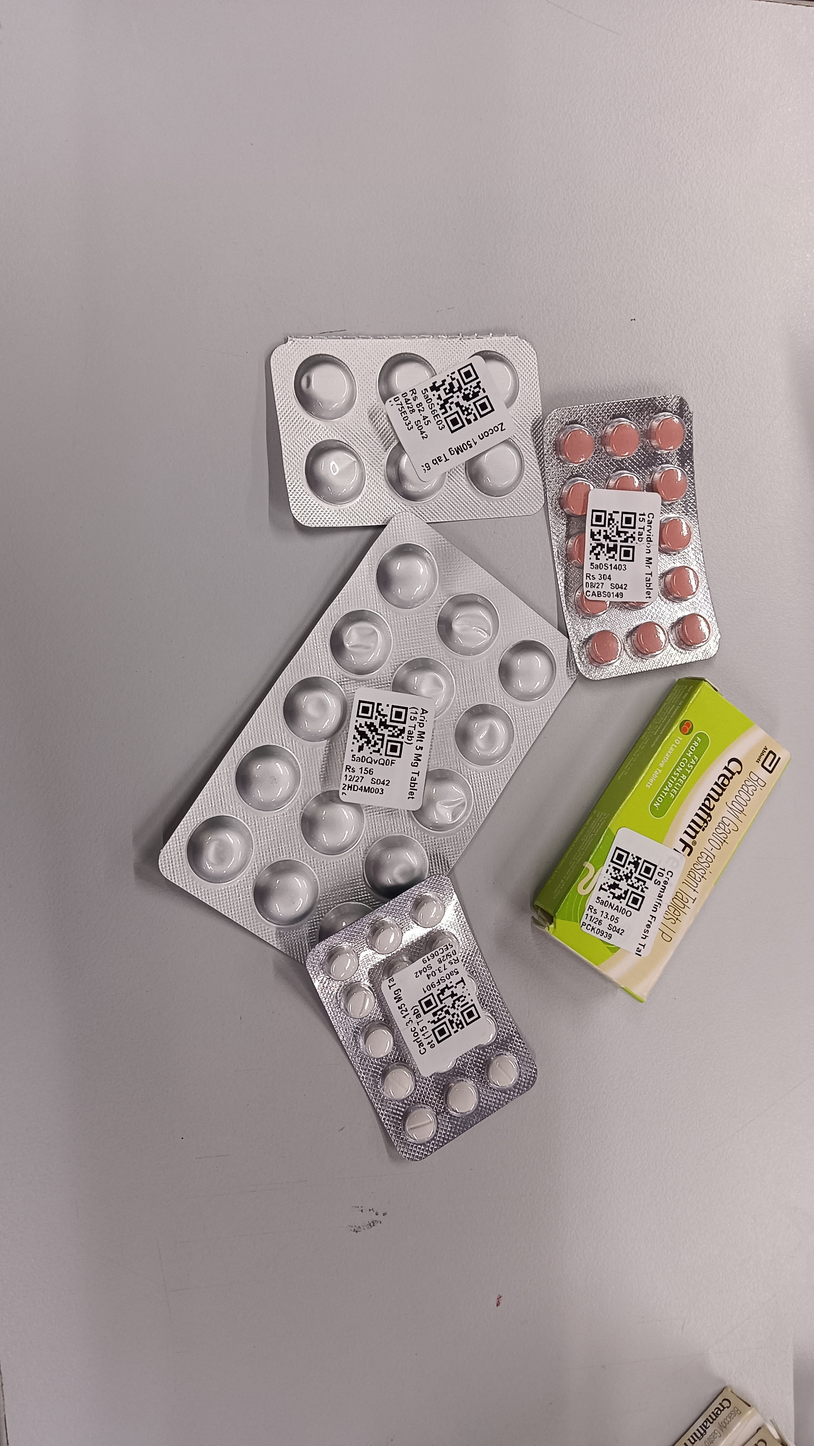qr_code: (426, 362, 495, 434), (418, 974, 480, 1043), (597, 846, 657, 911), (351, 700, 408, 758), (587, 509, 636, 562)
